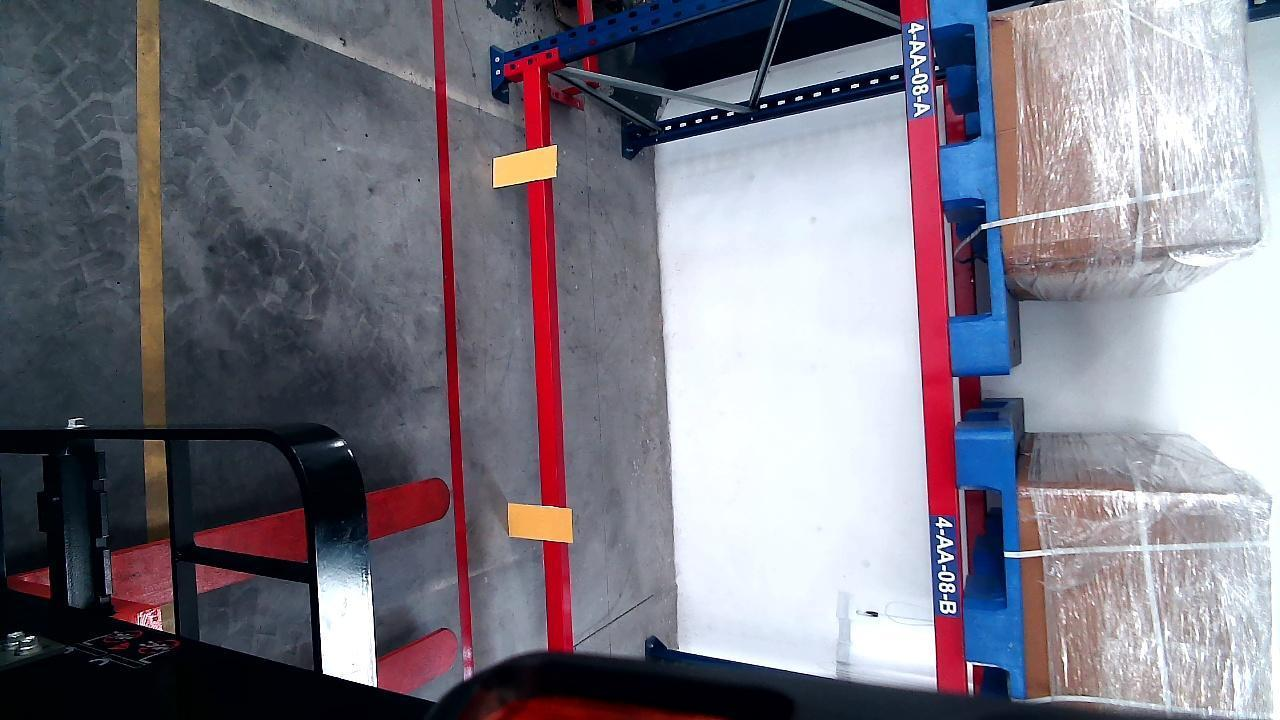h_rack: (524, 68, 578, 660)
orange_strip: (507, 503, 572, 542), (492, 147, 556, 186)
red_line: (432, 0, 472, 684)
small_pallet: (934, 0, 1012, 374), (960, 435, 1024, 700)
yellow_line: (137, 2, 166, 417)
